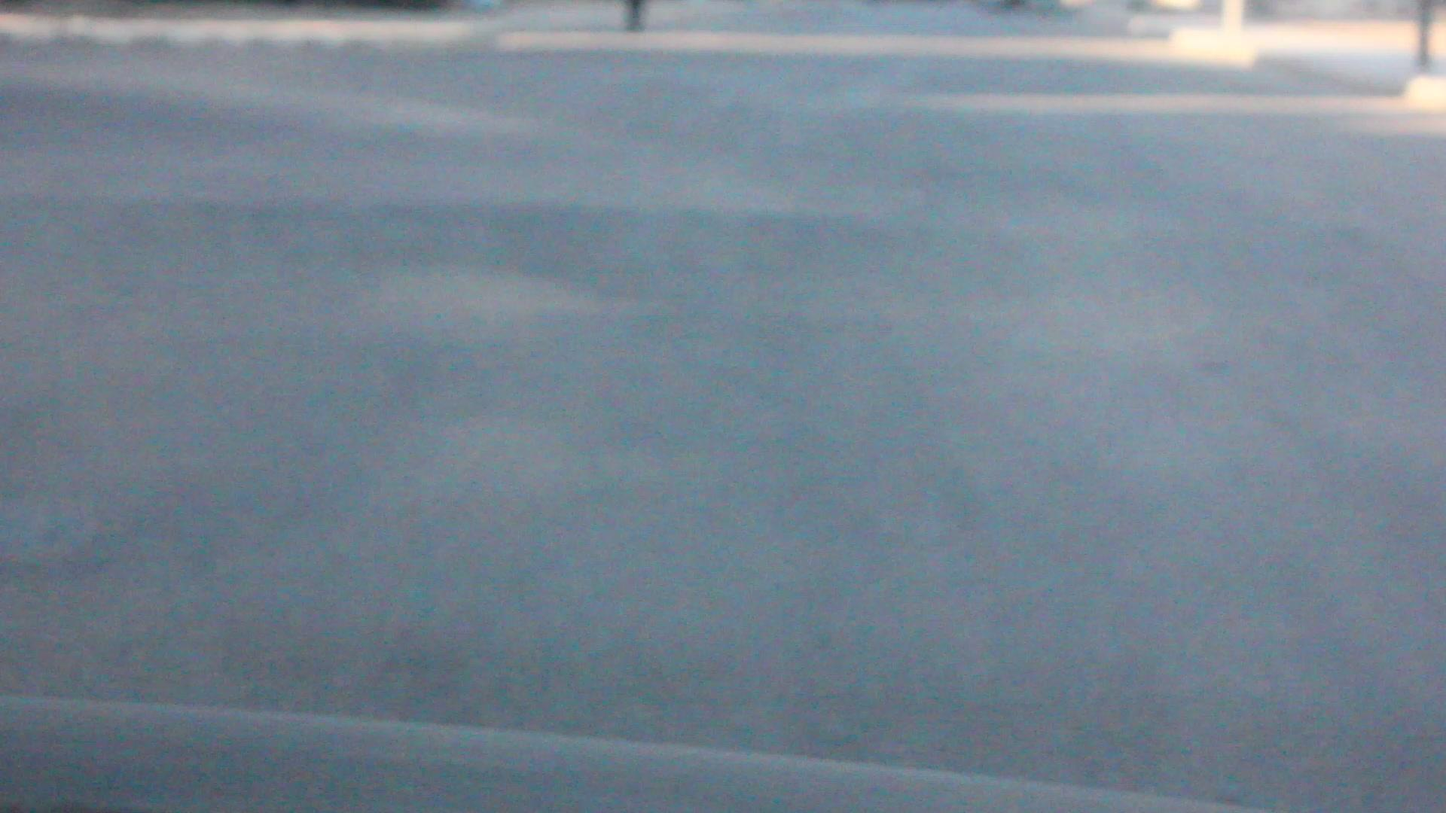Bump: (0, 176, 1445, 294)
